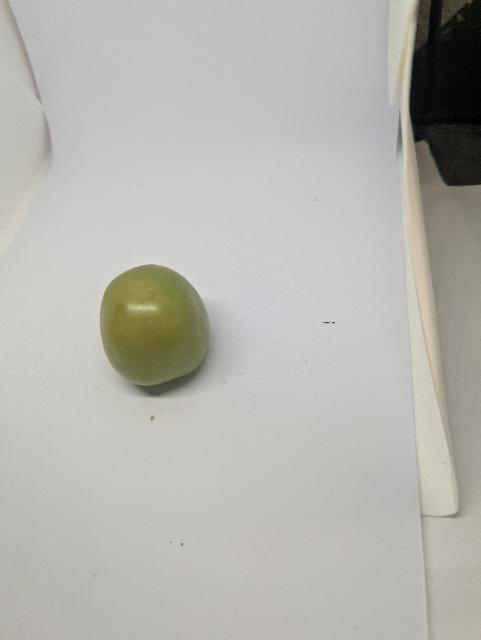green: (85, 257, 223, 402)
